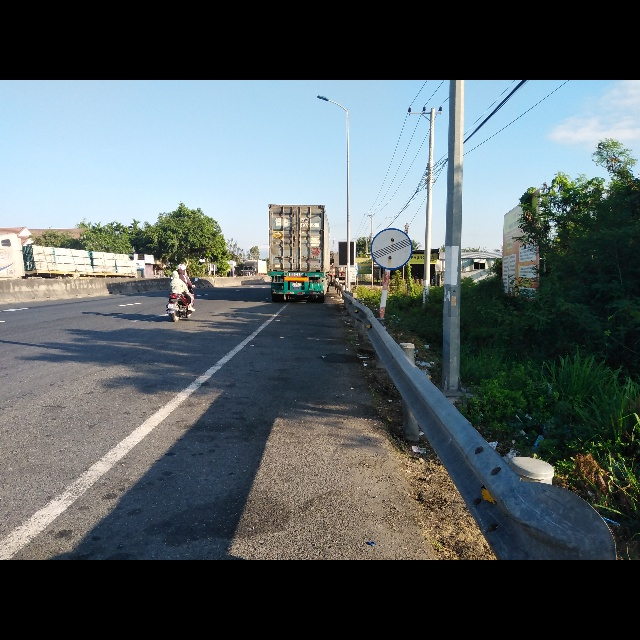Hết tất cả các lệnh cấm: (370, 227, 412, 270)
